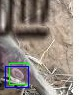text: (9, 63, 28, 84)
